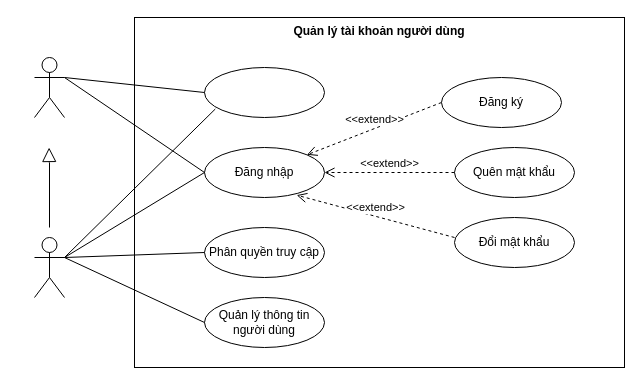
Some shapes in this 642 by 385 pixel diagram are drawn without their labels. The shapes that lost their labels are listed below. From the top down, each one's centre as x and y in pixels, then its label:
At point (49, 87): "Người dùng".
At point (264, 92): "Đăng xuất".
At point (49, 267): "Admin".
